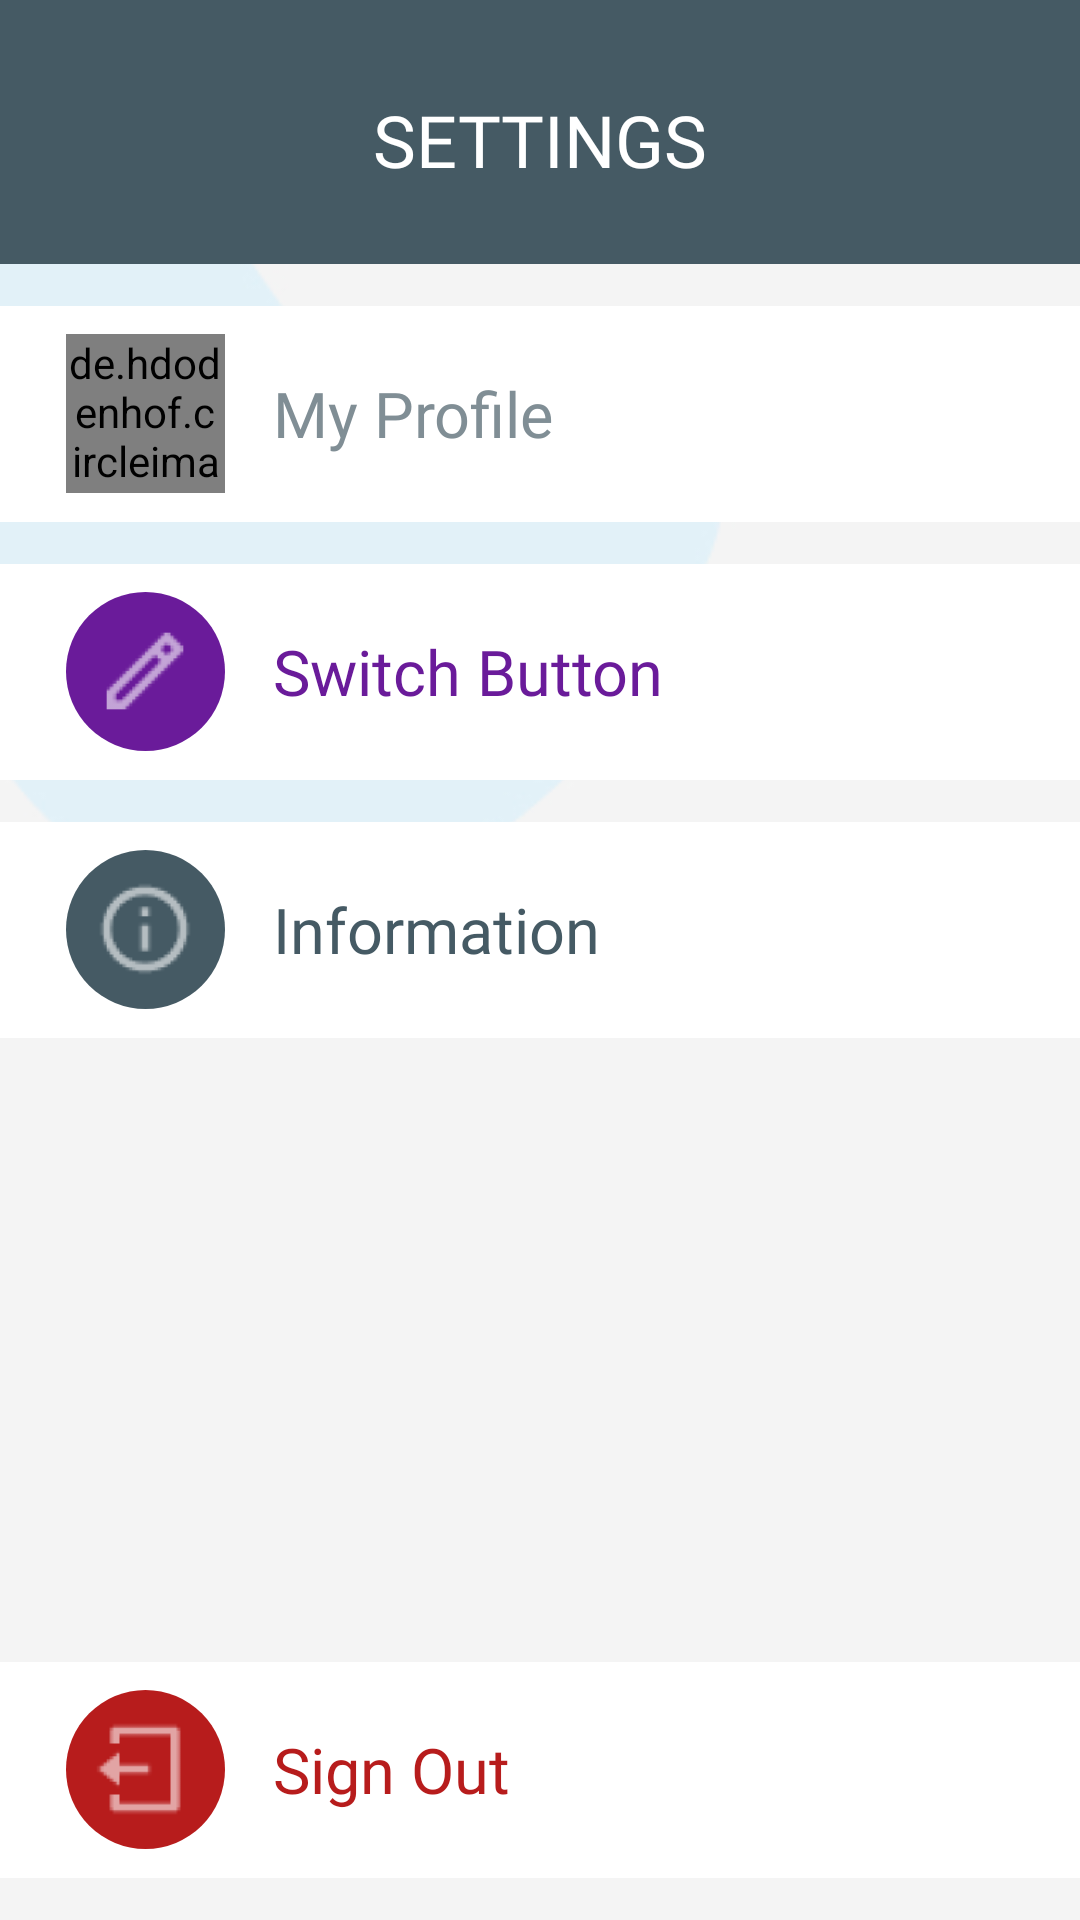

Named icons in this screenshot (1080x1920) and their bounding boxes, (x1, y1, x2, y2):
pencil: (106, 632, 184, 710)
